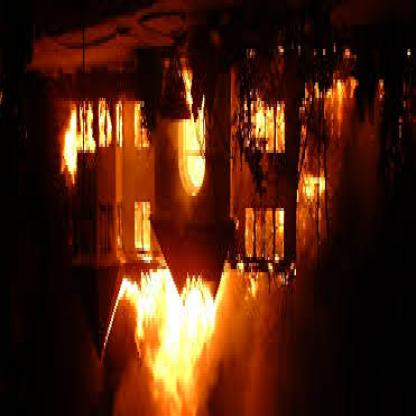Fire: (134, 295, 212, 415), (63, 110, 81, 190)
